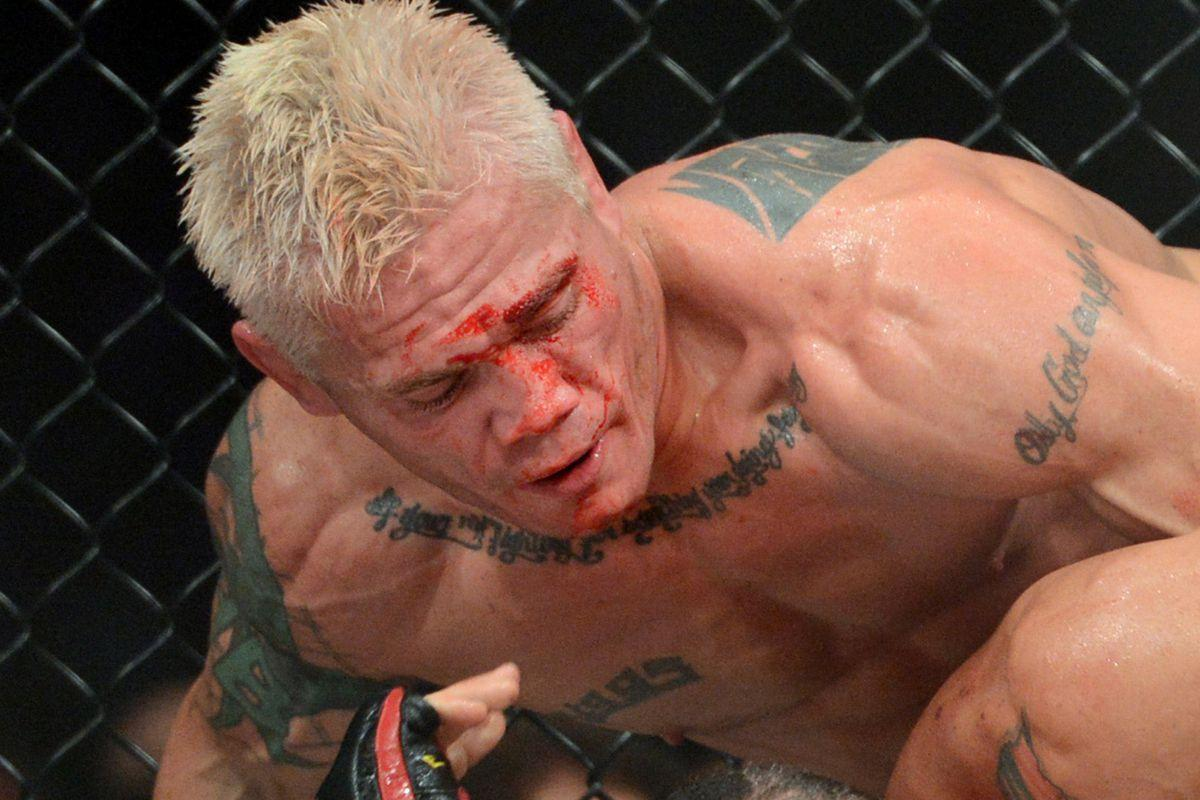Fire: (389, 250, 644, 541)
